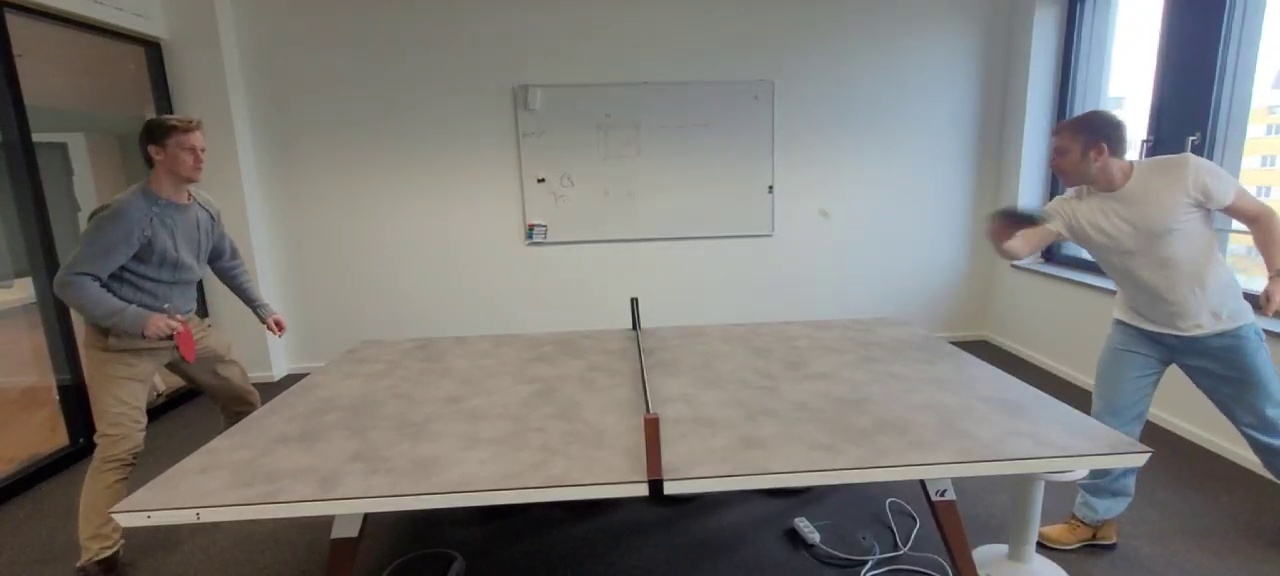1: (163, 304, 195, 363), (998, 206, 1043, 227)
2: (818, 207, 831, 218)
ttplatte: (109, 315, 1153, 513)
